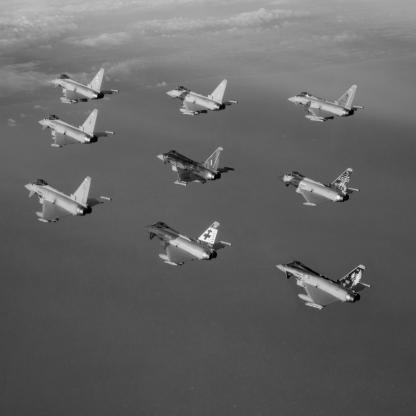EF2000: (276, 261, 373, 312), (25, 177, 113, 224), (143, 222, 234, 267), (157, 147, 236, 188), (278, 169, 361, 208), (39, 109, 116, 149), (288, 86, 365, 124), (167, 80, 239, 117), (51, 69, 120, 105)
